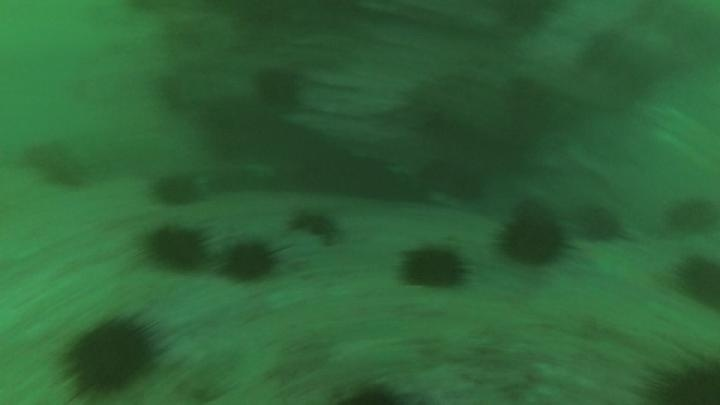echinus: (61, 312, 162, 399), (201, 95, 277, 163), (496, 205, 570, 270), (635, 350, 719, 404), (24, 137, 91, 191), (397, 243, 469, 292), (143, 223, 210, 274), (673, 252, 720, 312), (221, 238, 279, 284), (665, 194, 718, 236), (253, 66, 302, 111), (330, 377, 408, 405), (575, 202, 625, 245), (287, 206, 342, 245), (150, 170, 203, 210), (491, 1, 555, 33)
